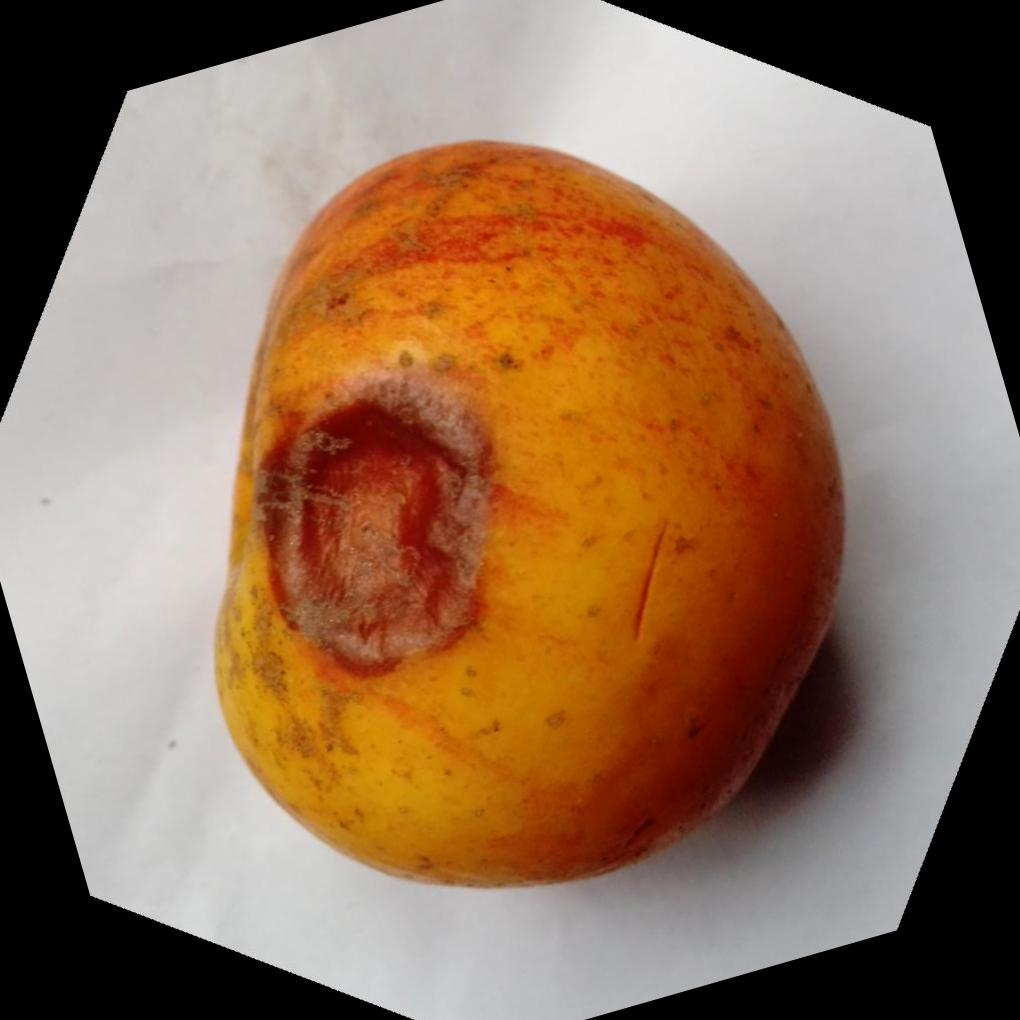FreshOrange: (214, 139, 850, 887)
